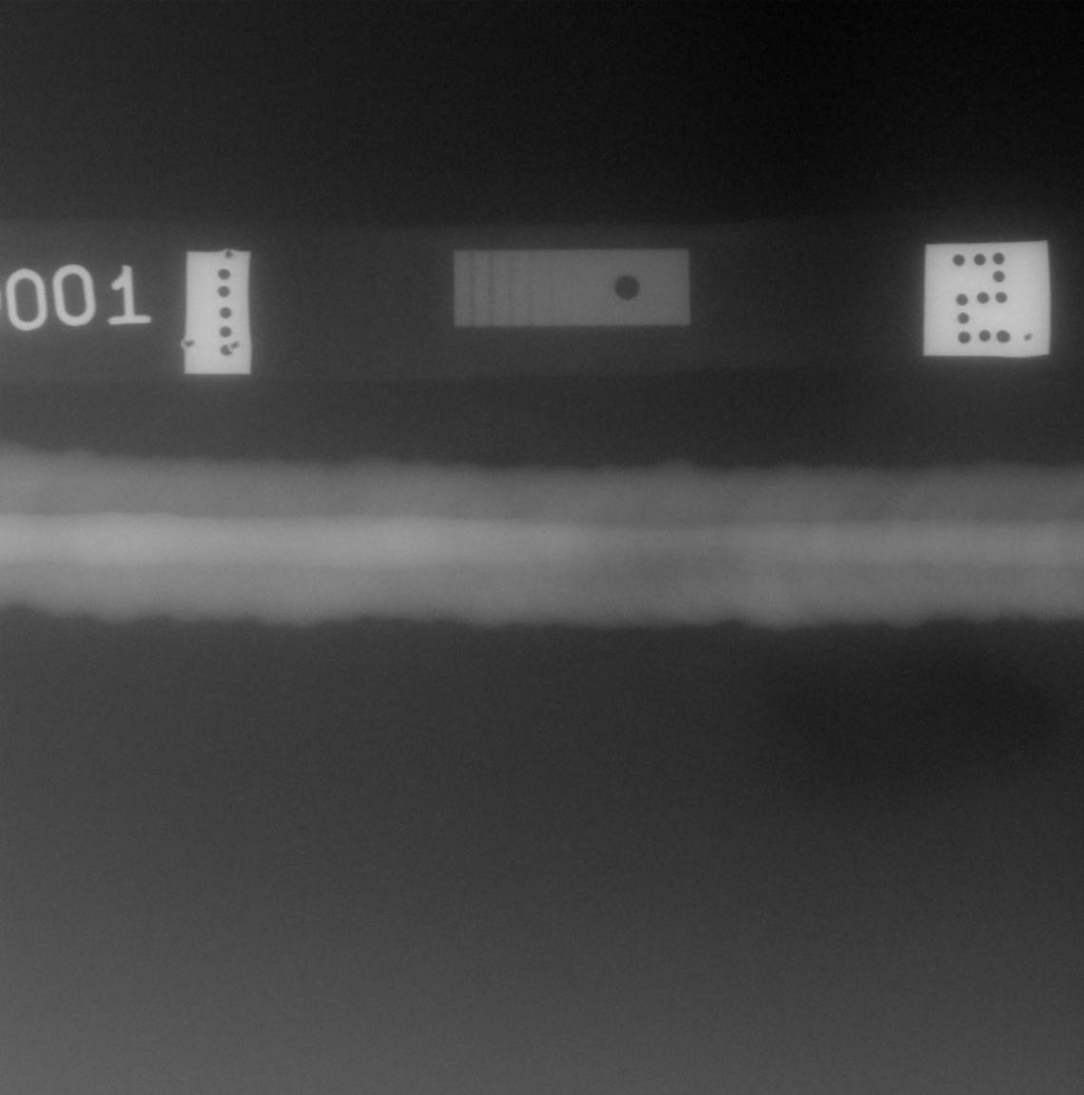Reference Standard 1: (453, 249, 690, 326)
